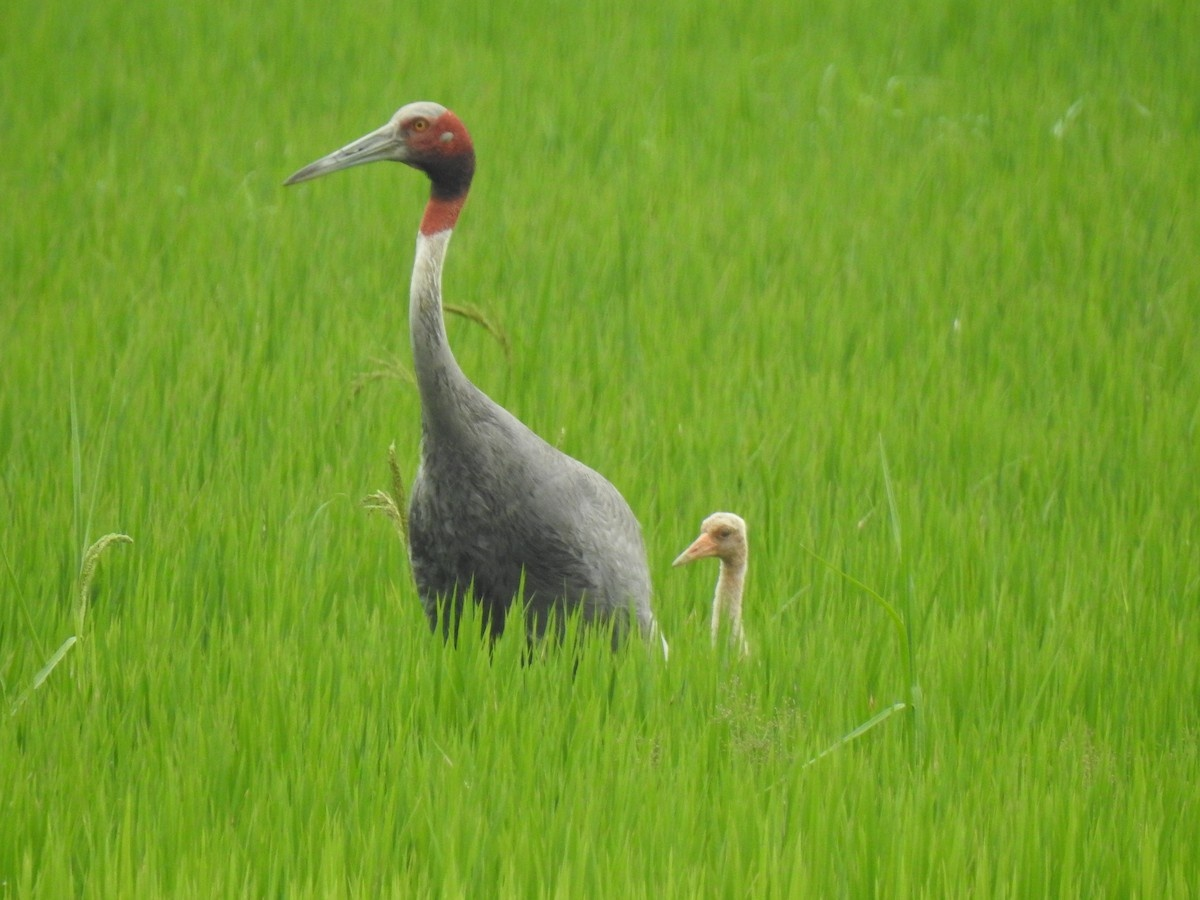crane: (278, 94, 667, 666), (672, 494, 749, 655)
